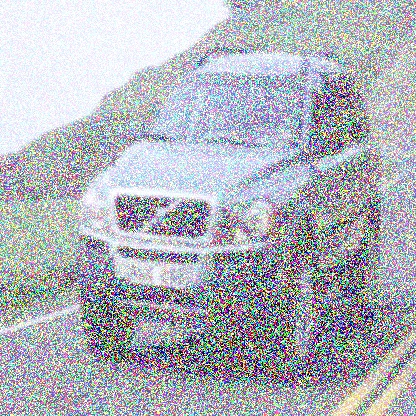Vehicle: (81, 55, 383, 386)
